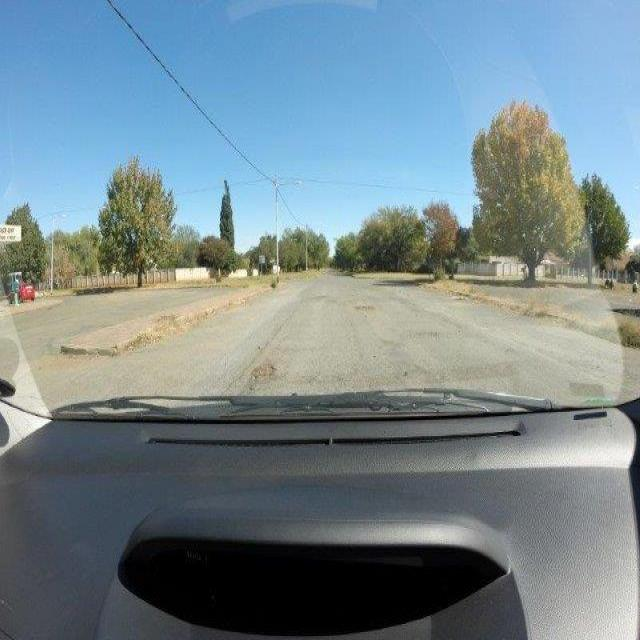lubang: (237, 355, 274, 393), (356, 301, 378, 315)
